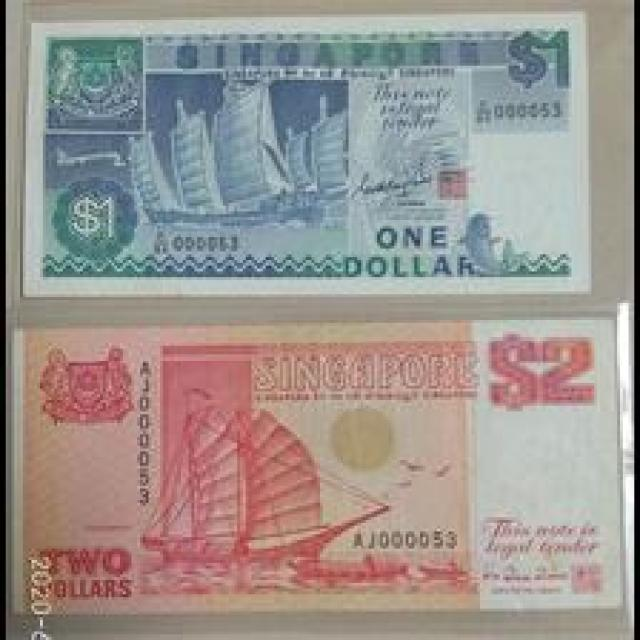banknote: (6, 300, 628, 629), (17, 6, 592, 294), (477, 328, 600, 422), (328, 216, 484, 289), (31, 534, 142, 606), (501, 24, 577, 102), (55, 187, 133, 254)
